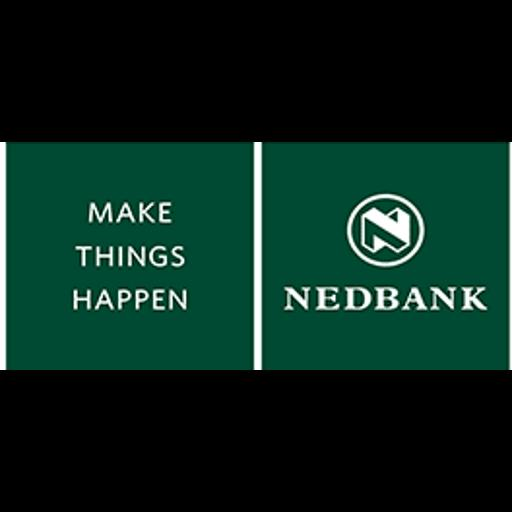NedBank Limited: (0, 142, 512, 370)
